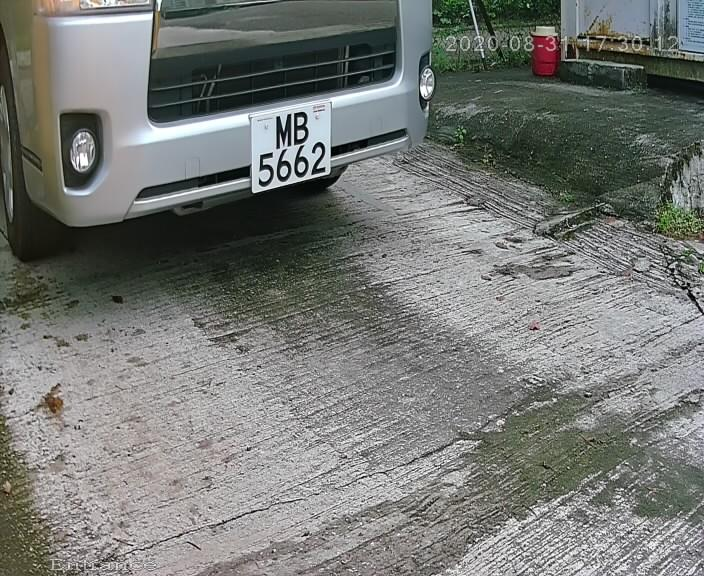License Plate: (246, 96, 340, 204)
